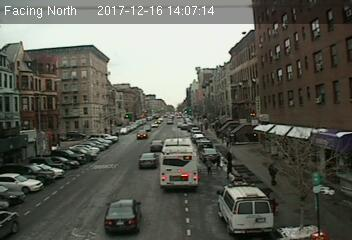bus: (158, 136, 200, 191)
car: (102, 199, 144, 232), (200, 147, 219, 163), (138, 152, 157, 167), (149, 139, 163, 151), (136, 130, 146, 137)
pedestrian: (267, 161, 280, 186)
police: (214, 179, 274, 236)
